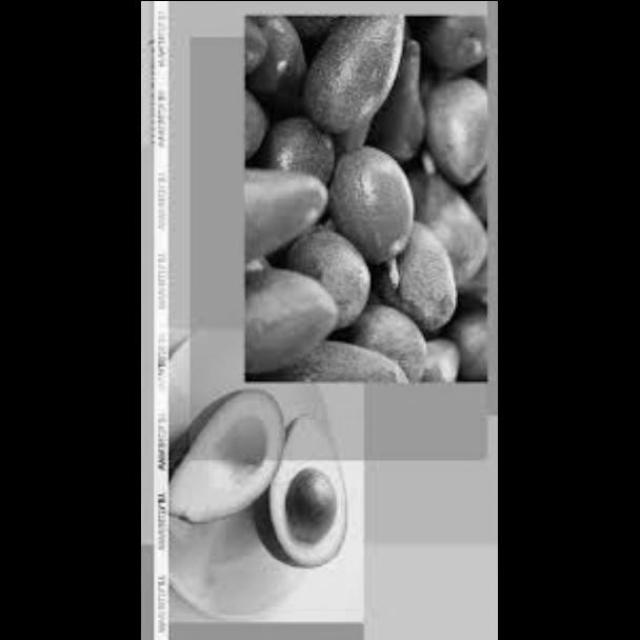bo: (165, 385, 275, 546), (274, 400, 362, 578), (340, 148, 420, 294), (307, 27, 415, 135), (233, 150, 344, 250), (242, 267, 352, 350), (396, 223, 476, 333), (417, 66, 498, 174), (303, 328, 425, 392), (432, 159, 491, 285)
